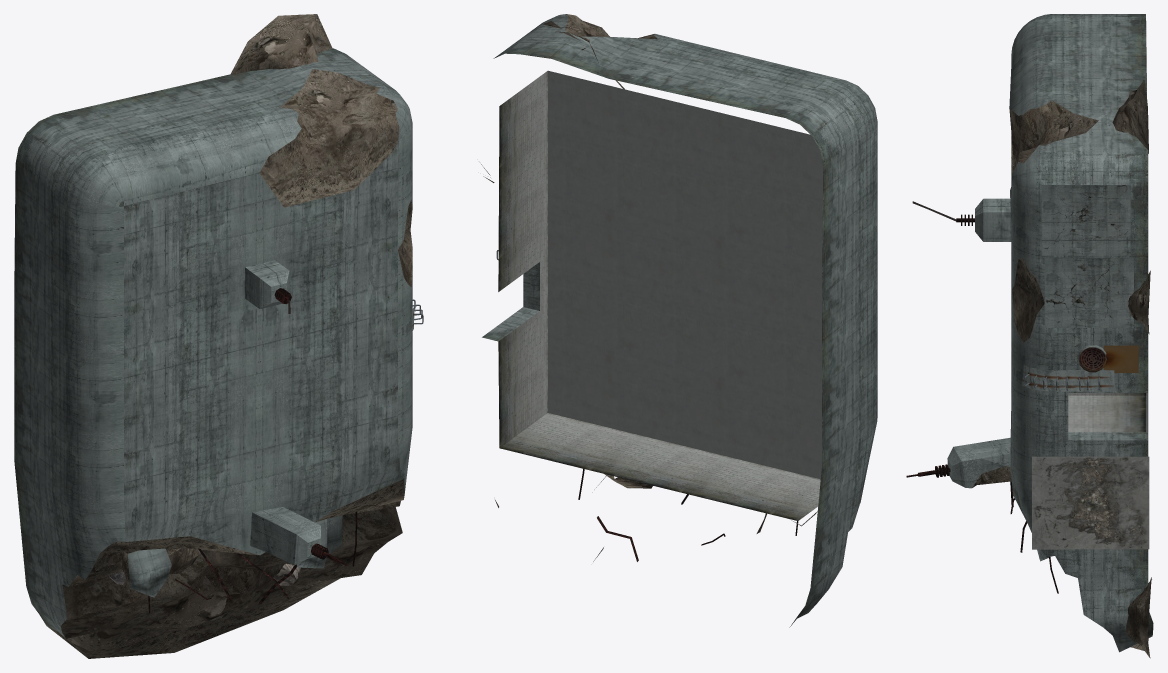
Rendered from bunker01.glb.
3 views of the same model, side by side, from view 1: azimuth 30°, elevation 25°; view 2: azimuth 150°, elevation 25°; view 3: azimuth 270°, elevation 25° (orthographic). The views are drawn at different scales.
Size of the model in its own units: 501 by 788 by 302.
15 materials, 15 textured.
